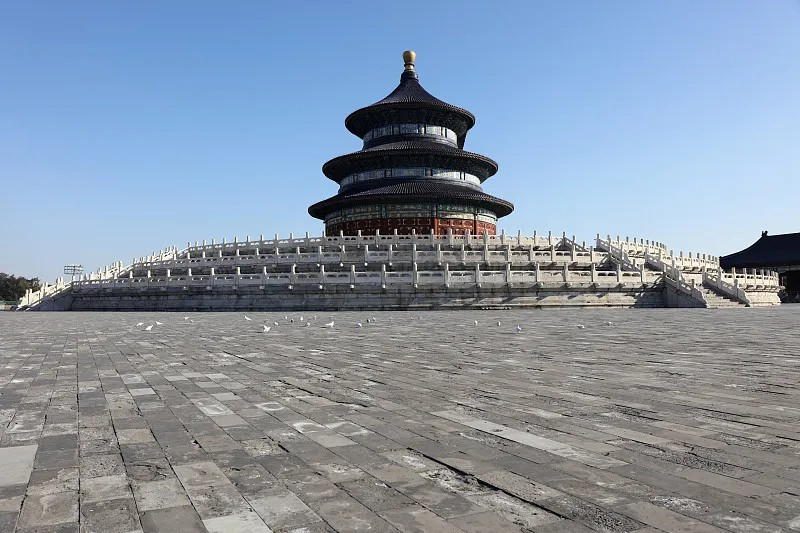Heaven: (308, 49, 514, 236)
